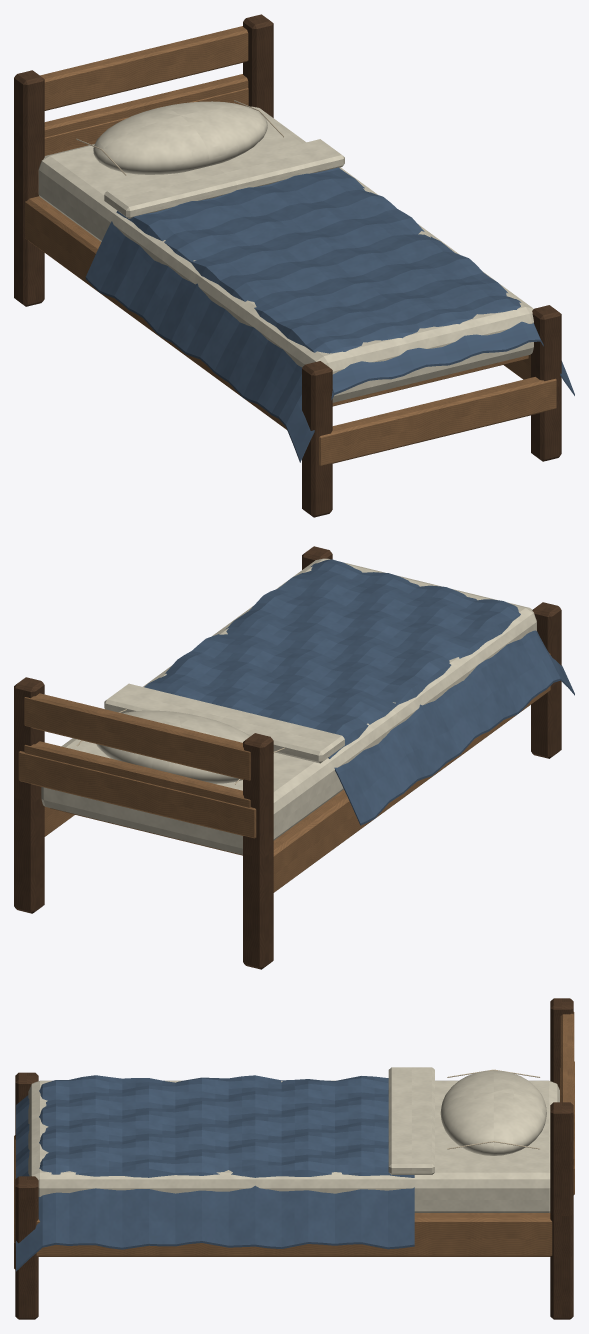
Rendered from bed_blue.glb.
3 views of the same model, one above another, from view 1: azimuth 30°, elevation 25°; view 2: azimuth 150°, elevation 25°; view 3: azimuth 270°, elevation 25° (orthographic). The views are drawn at different scales.
Visible parts, largest first — view 1: Bed_frame_and_textile.001; view 2: Bed_frame_and_textile.001; view 3: Bed_frame_and_textile.001.
Boxes of the visible parts, bbox=[...] form: Bed_frame_and_textile.001: bbox=[14, 14, 574, 517]; Bed_frame_and_textile.001: bbox=[14, 546, 574, 969]; Bed_frame_and_textile.001: bbox=[14, 998, 574, 1319].
Bounding box in the file's own units: 1.08 × 0.85 × 2.06.
5 materials, 5 textured.
